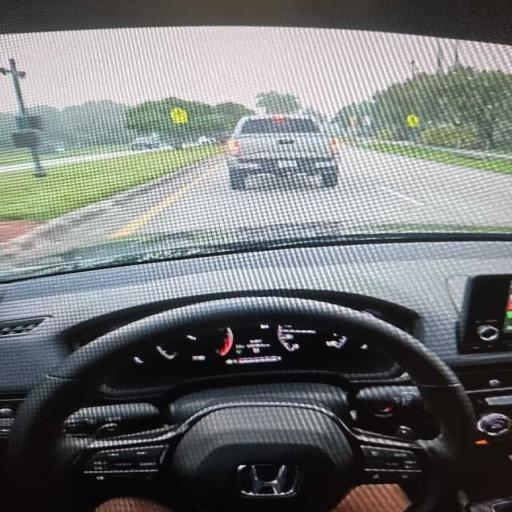car: (0, 0, 511, 511), (226, 115, 339, 189), (130, 136, 160, 150)
lane: (24, 148, 511, 258), (18, 158, 222, 262), (41, 147, 170, 168)
